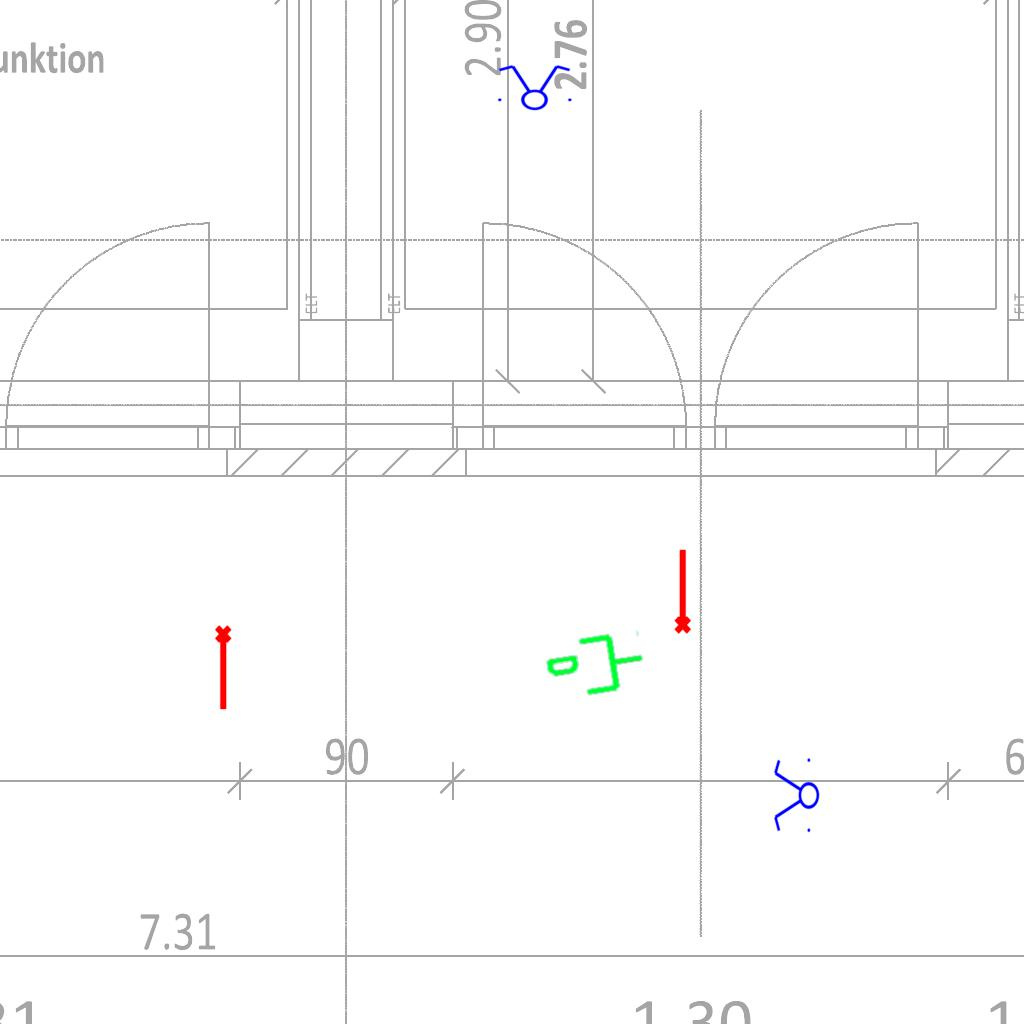ASR_Ansaugoeffnung: (670, 547, 693, 635), (213, 624, 236, 712)
Datenanschluss_einfach: (540, 625, 651, 709)
Serienschalter: (772, 754, 820, 838), (492, 63, 576, 111)
